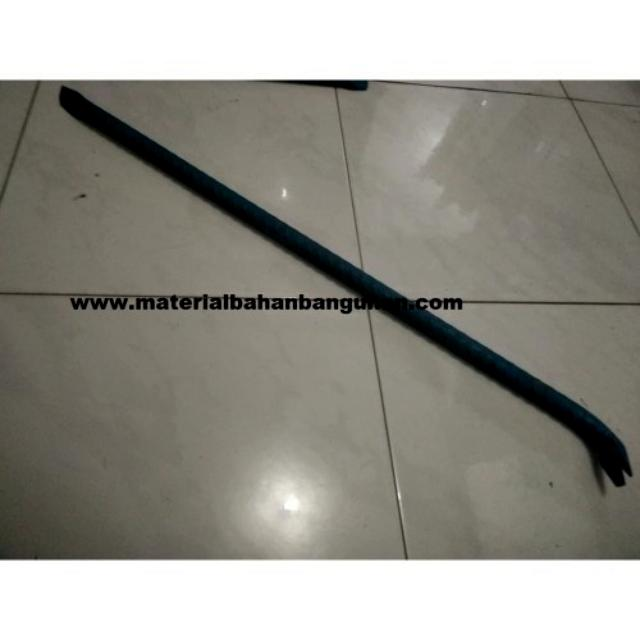crow bar: (60, 84, 633, 494)
